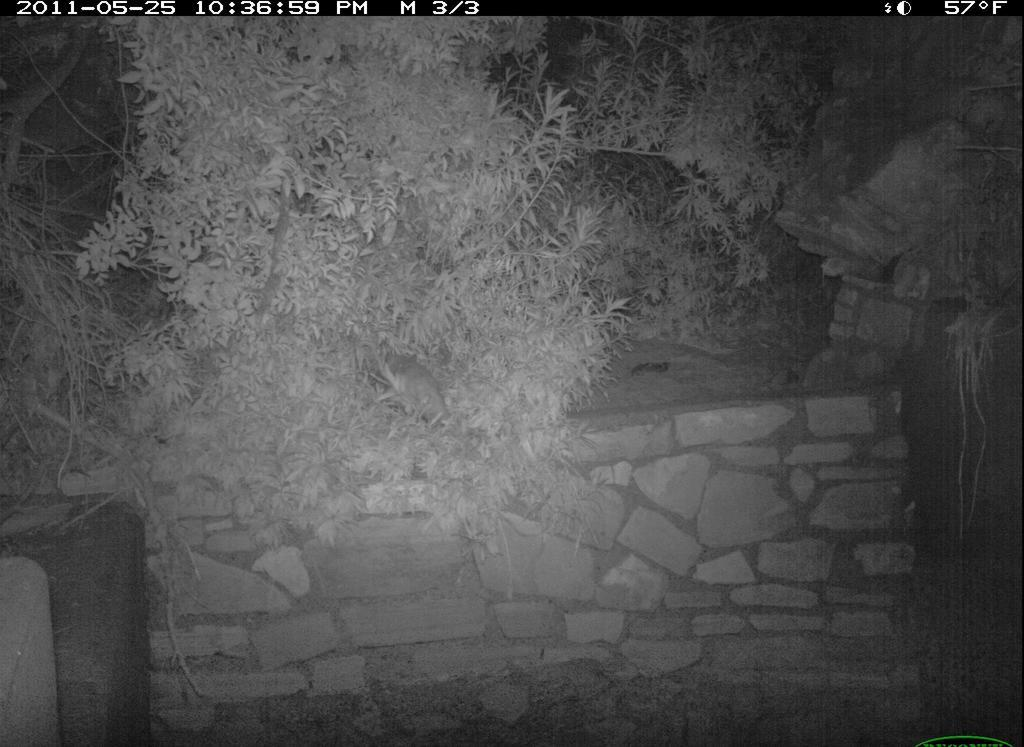opossum: (358, 327, 464, 437)
